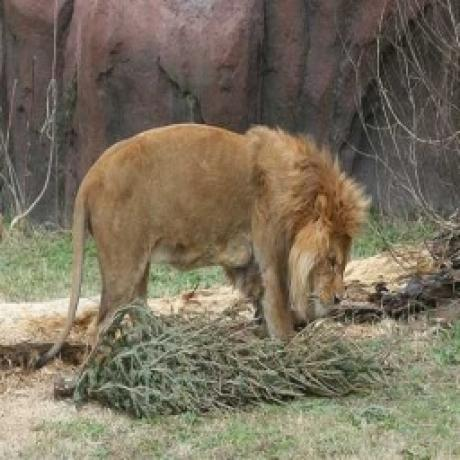Lion: (28, 120, 376, 372)
